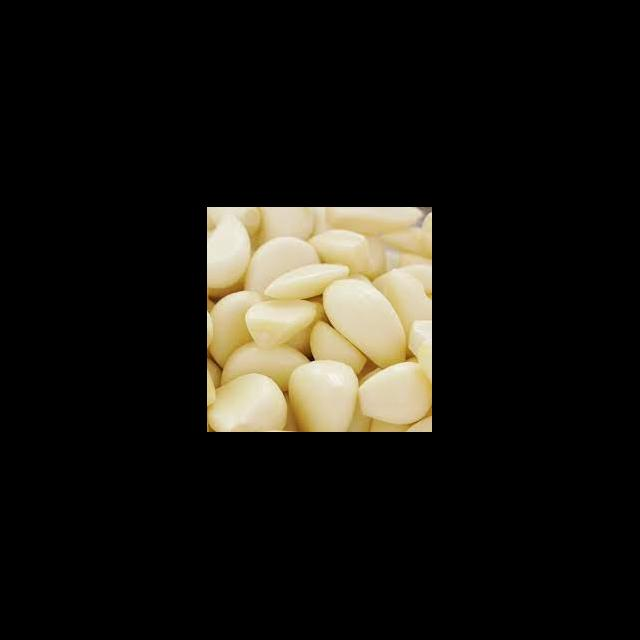garlic: (208, 212, 432, 431)
